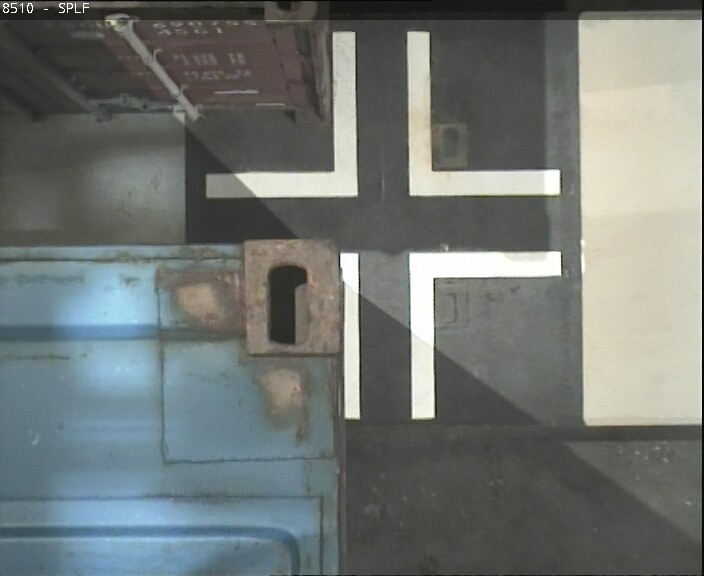groundmarker_1: (203, 34, 559, 196), (204, 256, 560, 418)
